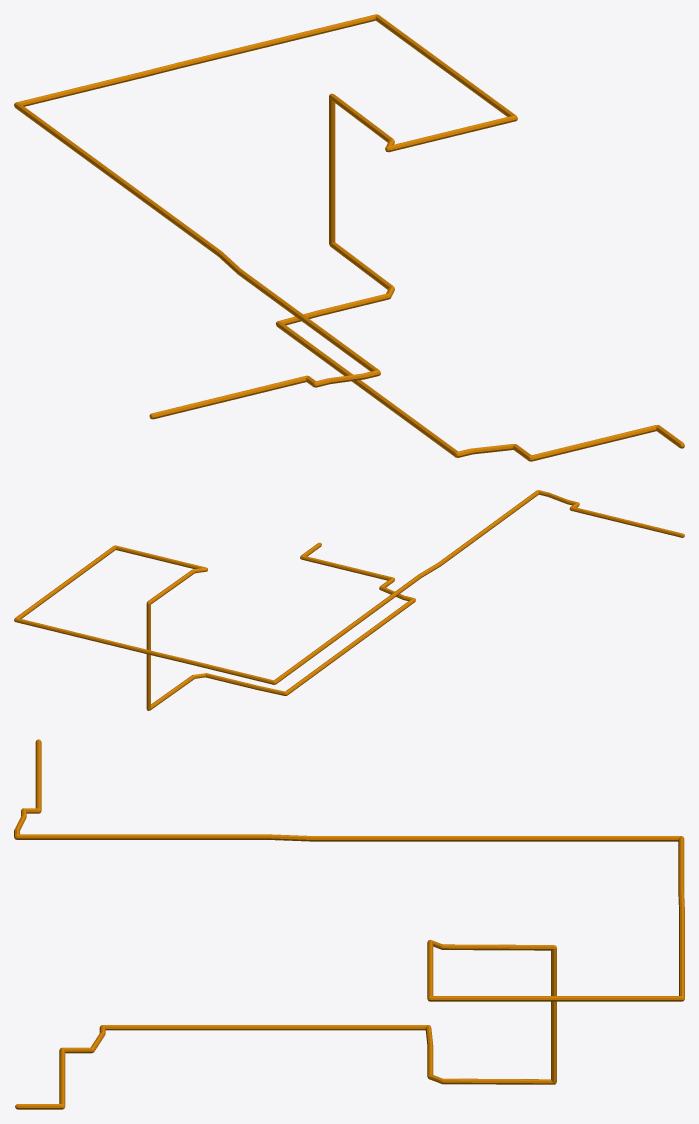
The picture shows the model from 3 angles, top to bottom: view 1: azimuth 30°, elevation 25°; view 2: azimuth 150°, elevation 25°; view 3: azimuth 270°, elevation 25°; orthographic projection. The views are drawn at different scales.
Size of the model in its own units: 2071 by 520 by 2266.
